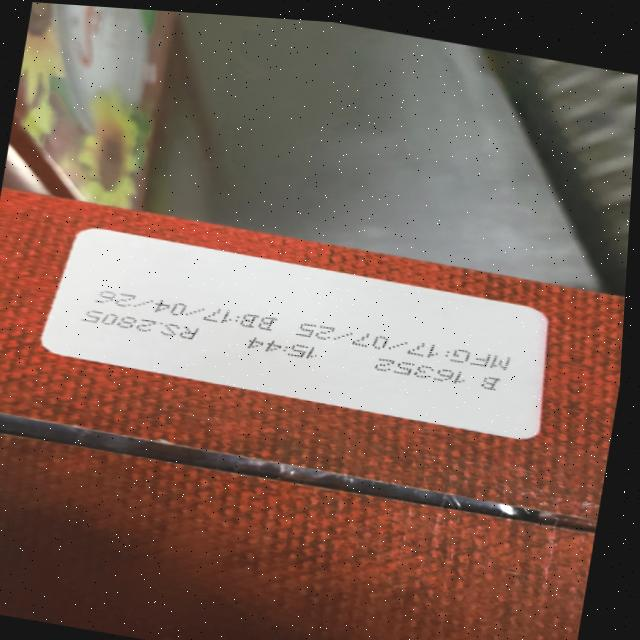BB: (95, 288, 280, 334)
Batch: (364, 354, 498, 392)
MFG: (296, 321, 513, 373)
RS: (80, 308, 194, 341)
TimeStamp: (249, 335, 322, 361)
